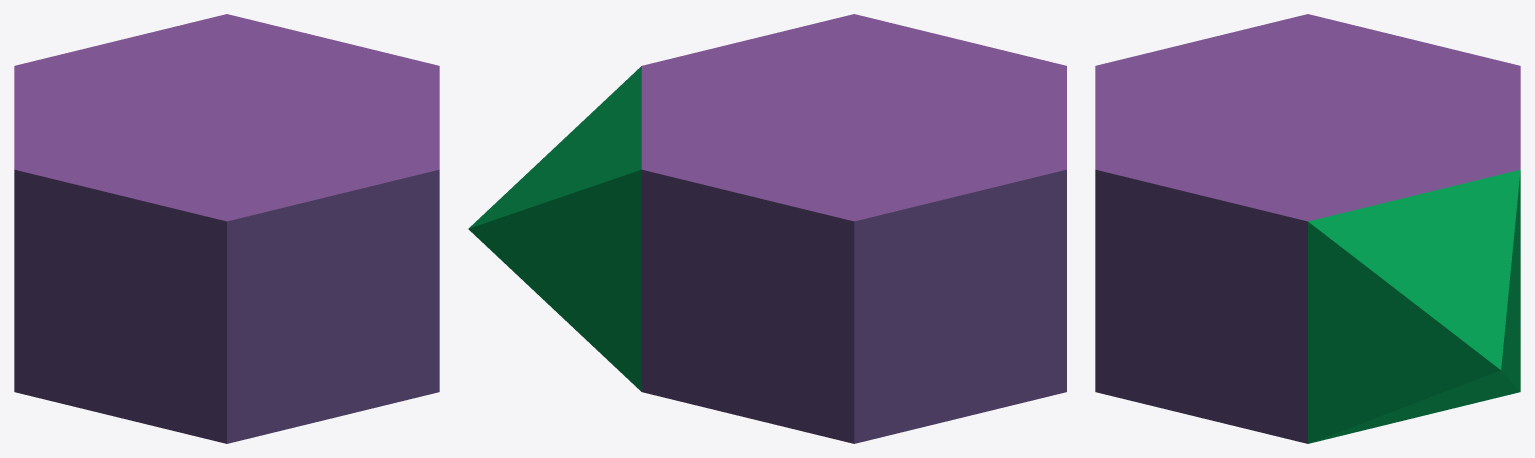
Rendered from J54.PrismaHexagonalAumentado.gltf.
3 renders of one model, left to right at view 1: azimuth 30°, elevation 25°; view 2: azimuth 150°, elevation 25°; view 3: azimuth 270°, elevation 25°, orthographic.
Parts seen in each view (by area): view 1: J54.PrismaHexagonalAumentado; view 2: J54.PrismaHexagonalAumentado; view 3: J54.PrismaHexagonalAumentado.
Part boxes in pixels (box(x1,y1,x2,y2)): J54.PrismaHexagonalAumentado: box(14, 14, 439, 443); J54.PrismaHexagonalAumentado: box(468, 14, 1066, 443); J54.PrismaHexagonalAumentado: box(1095, 14, 1520, 443).
Bounding box in the file's own units: 15.02 × 6.36 × 11.01.
